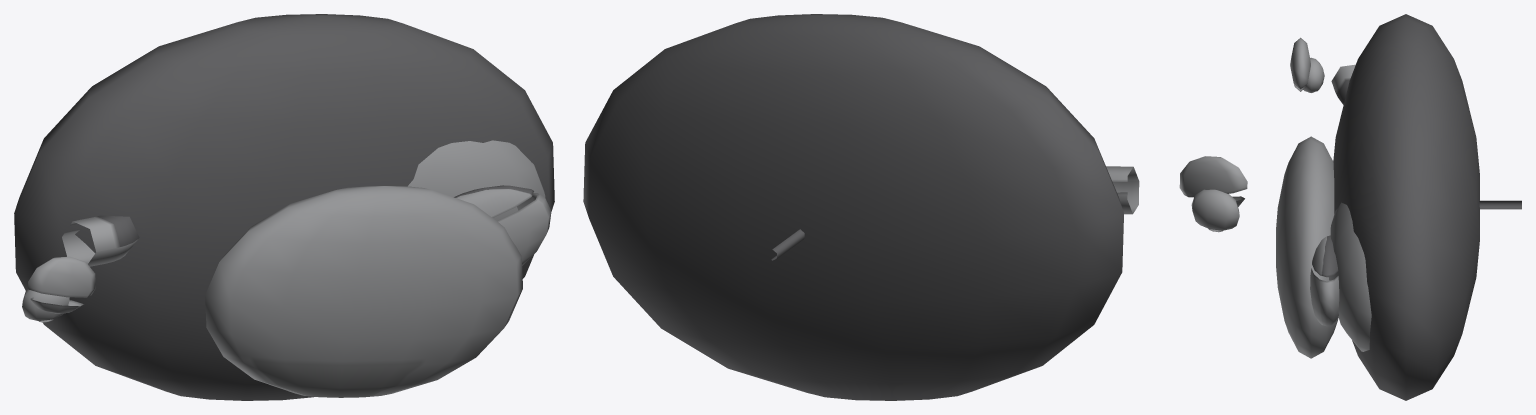
3 renders of one model, left to right at view 1: azimuth 30°, elevation 25°; view 2: azimuth 150°, elevation 25°; view 3: azimuth 270°, elevation 25°, orthographic. The views are drawn at different scales.
Size of the model in its own units: 1 by 0.6179 by 0.4667.
